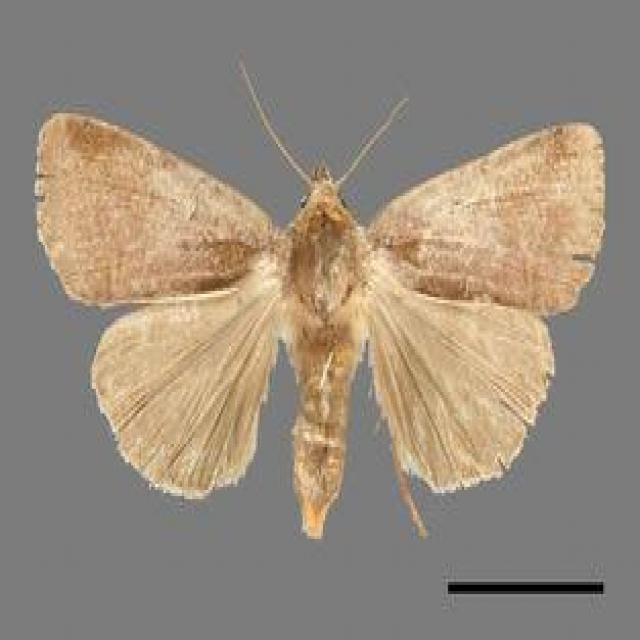BeetArmyWorm-Adult-: (33, 53, 616, 554)
